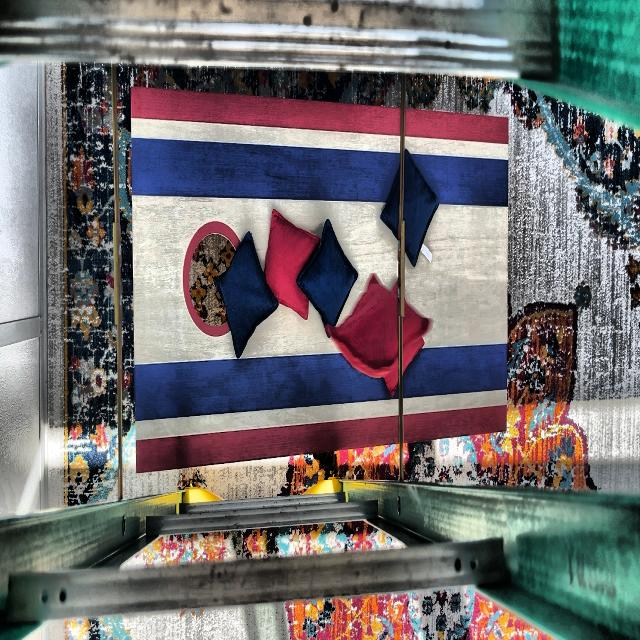blue-bean-bag: (215, 233, 281, 356), (298, 219, 358, 337), (379, 149, 439, 266)
board: (136, 122, 507, 430)
hole: (182, 221, 249, 337)
red-bean-bag: (324, 274, 432, 378), (263, 209, 320, 322), (383, 280, 425, 395)
